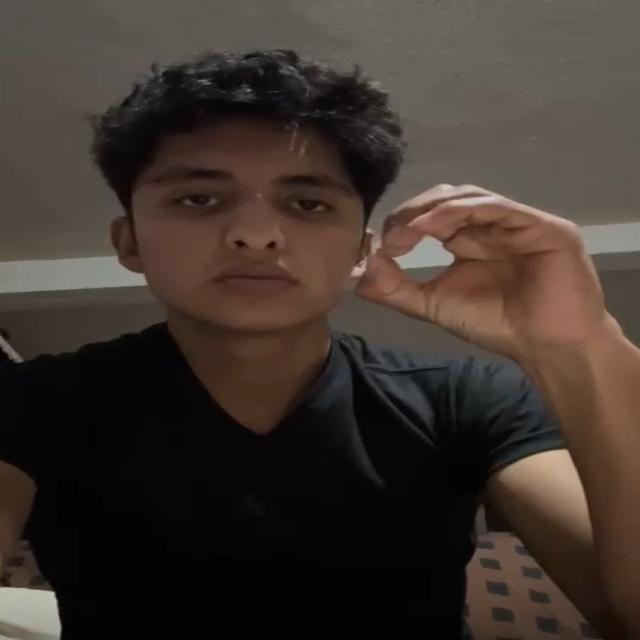O: (365, 167, 640, 423)
